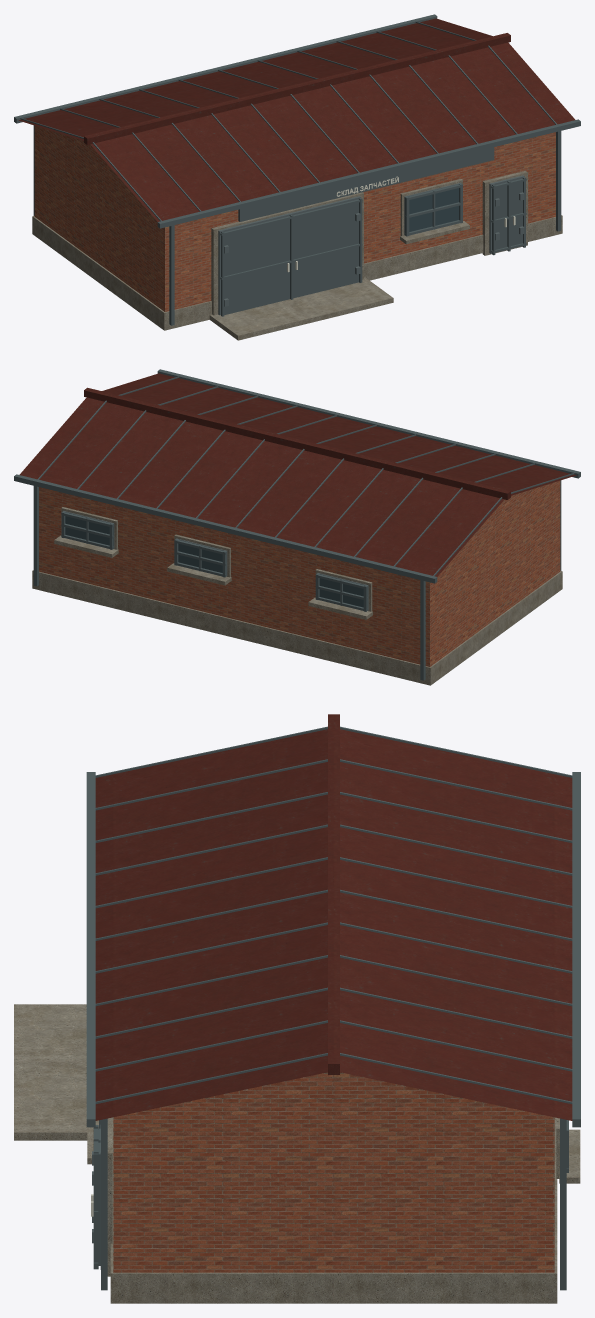
The model's file is atp_parts_store.glb.
3 renders of one model, top to bottom at view 1: azimuth 30°, elevation 25°; view 2: azimuth 150°, elevation 25°; view 3: azimuth 270°, elevation 25°, orthographic. The views are drawn at different scales.
Visible parts, largest first — view 1: atp_parts_store; view 2: atp_parts_store; view 3: atp_parts_store.
Part boxes in pixels (x1,y1,x2,y2): atp_parts_store: (14,14,580,340); atp_parts_store: (14,369,580,685); atp_parts_store: (14,714,580,1303).
Bounding box in the file's own units: 15 × 5.07 × 10.28.
Materials: 7 (3 with a texture image).
